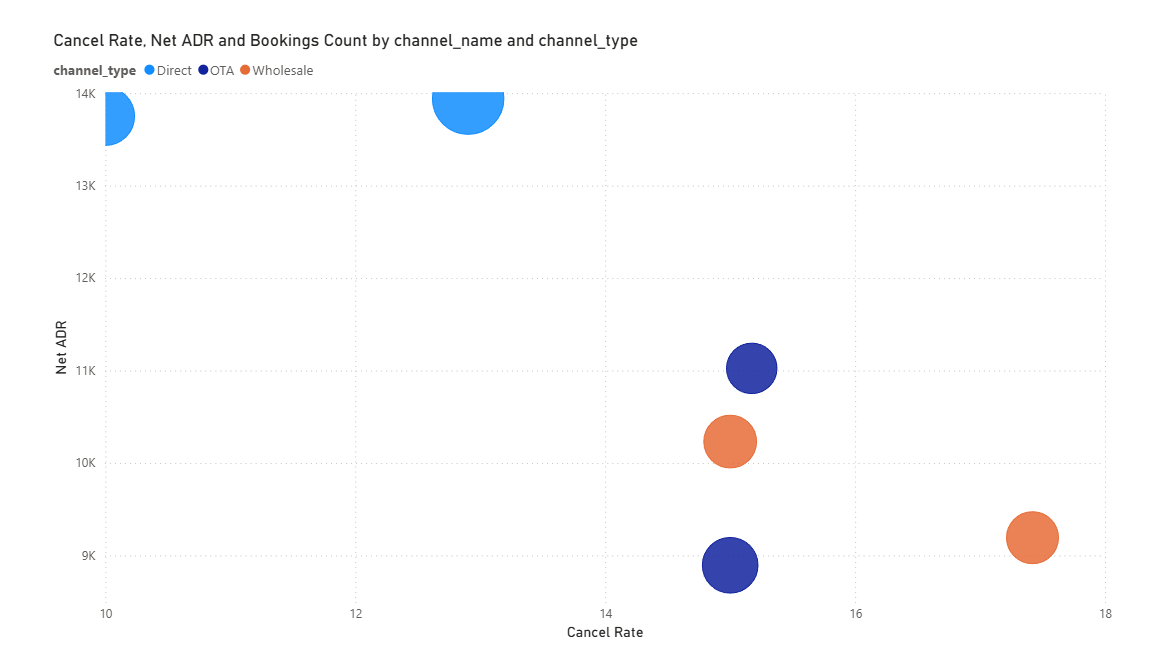

This screenshot's page, from the dashboard's own definition file:
{"tool":"powerbi","page":{"name":"Page 5","canvas":[1280,720],"ordinal":4},"visuals":[{"type":"scatterChart","fields":{"Category":["dim_channels (1).channel_name"],"X":["fact_bookings (1).Cancel Rate"],"Y":["fact_bookings (1).Net ADR"],"Size":["fact_bookings (1).Bookings Count"],"Series":["dim_channels (1).channel_type"]},"box":[147.2,51.4,1063.7,612.4],"z":0}]}

Visuals, with their boxes on the page's 1280x720 design canvas (x1, y1, x2, y2). These are canvas units, not pixel positions in the 1158x672 screenshot, which may show the page scaled, cropped or inside an application window:
scatterChart - dim_channels (1).channel_name x fact_bookings (1).Cancel Rate: Rect(147, 51, 1211, 664)
